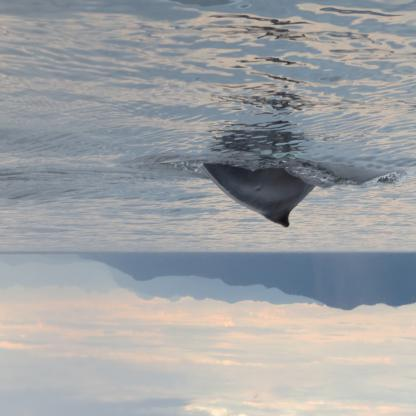dolphin-whale: (200, 160, 320, 230)
